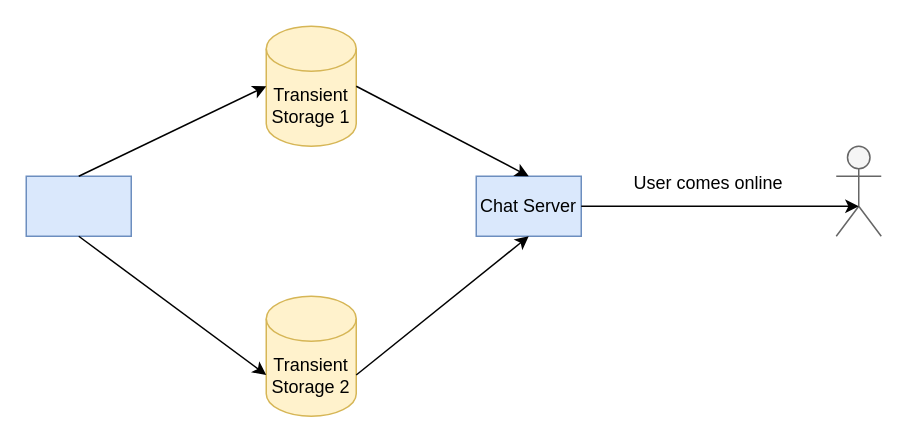
The diagram is 908 pixels wide and 443 high, and some of its shapes have lost their labels. The shapes that lost their labels are listed below. From the top down, each one's centre as x and y in pixels, then its label:
the point at 78,205: Transient Server
the point at 858,190: Alice
